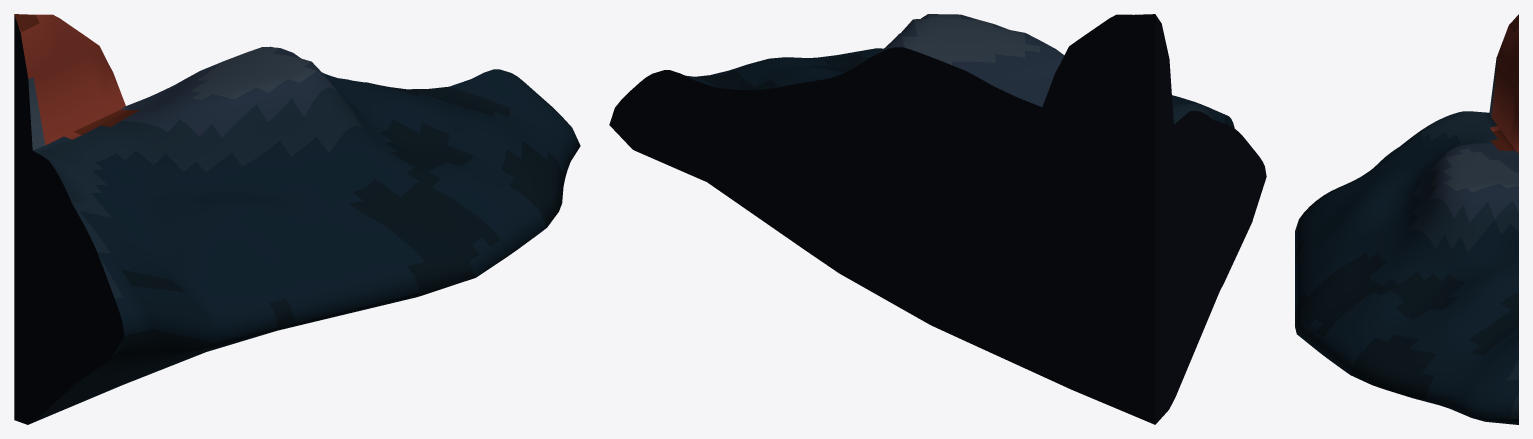
Rendered from newshn-197.glb.
3 views of the same model, side by side, from view 1: azimuth 30°, elevation 25°; view 2: azimuth 150°, elevation 25°; view 3: azimuth 270°, elevation 25° (orthographic). The views are drawn at different scales.
Visible parts, largest first — view 1: newshn-197; view 2: newshn-197; view 3: newshn-197.
Part boxes in pixels (x1,y1,x2,y2): newshn-197: [14, 14, 580, 424]; newshn-197: [609, 14, 1266, 424]; newshn-197: [1295, 14, 1518, 424].
Bounding box in the file's own units: 1.68 × 1.2 × 0.75.
